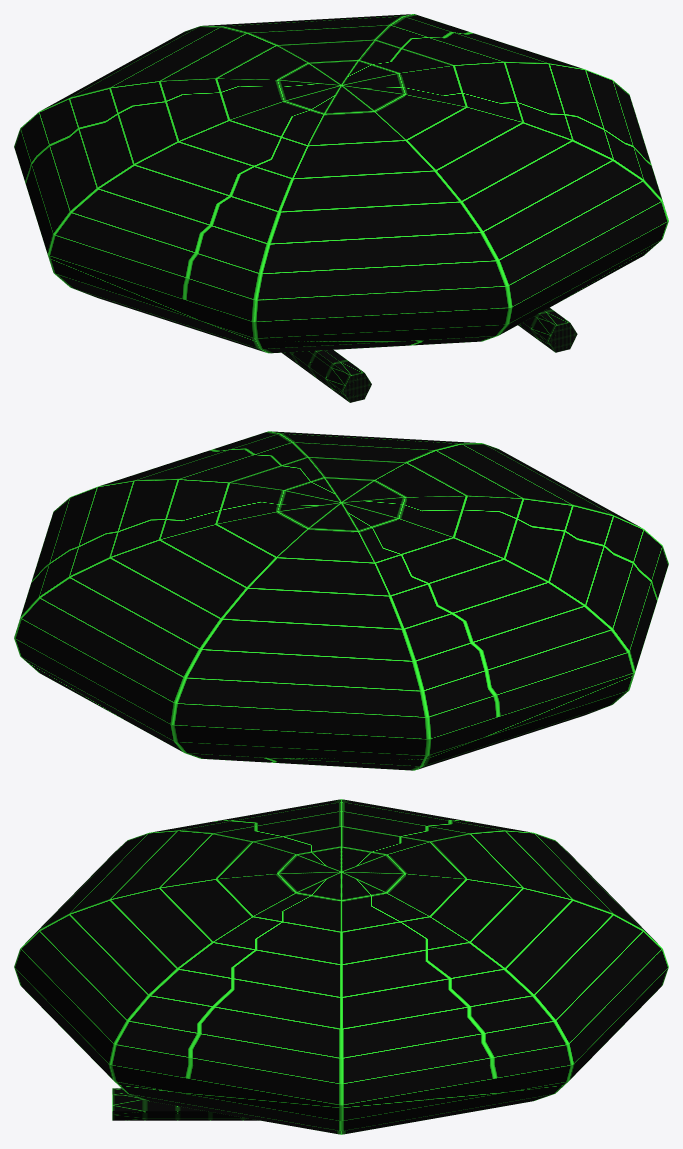
Rendered from AL4_Player.obj.
The picture shows the model from 3 angles, top to bottom: view 1: azimuth 30°, elevation 25°; view 2: azimuth 150°, elevation 25°; view 3: azimuth 270°, elevation 25°; orthographic projection. The views are drawn at different scales.
Parts seen in each view (by area): view 1: 球; view 2: 球; view 3: 球.
Part boxes in pixels (<box>): 球: <box>14,14,668,402</box>; 球: <box>14,431,668,770</box>; 球: <box>14,799,668,1134</box>.
Bounding box in the file's own units: 2 × 0.6633 × 2.
Materials: 1 (1 with a texture image).
